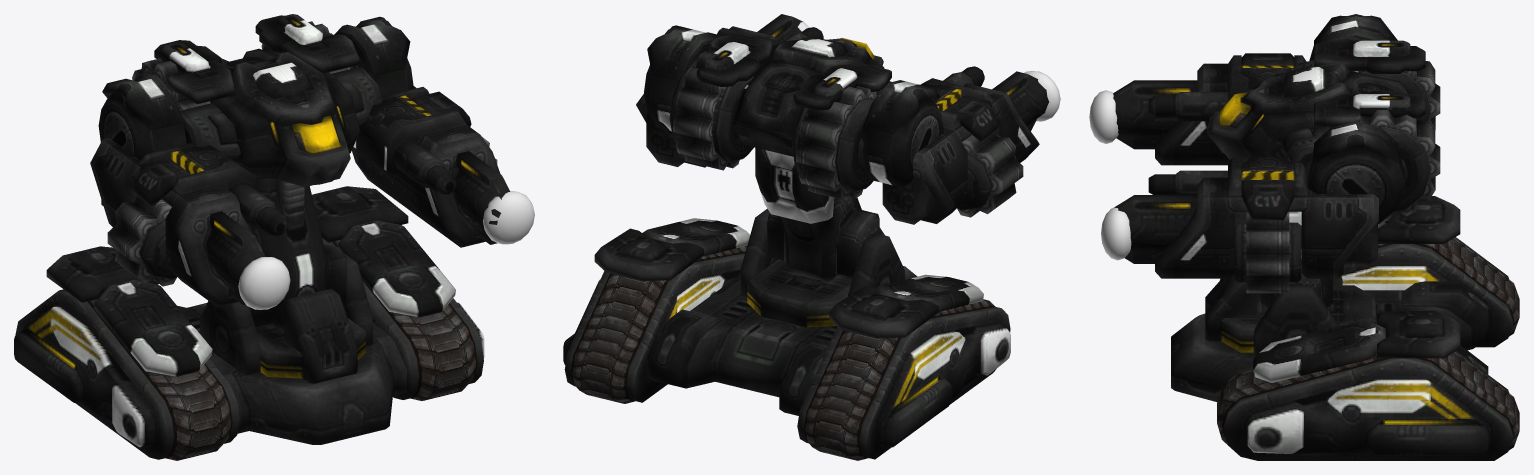
Rendered from UED_A.R.E.S_V1.glb.
The picture shows the model from 3 angles, left to right: view 1: azimuth 30°, elevation 25°; view 2: azimuth 150°, elevation 25°; view 3: azimuth 270°, elevation 25°; orthographic projection. The views are drawn at different scales.
Visible parts, largest first — view 1: Mesh.001, Cylinder09, Sphere03, Sphere08, Box01; view 2: Mesh.001, Cylinder09, Sphere03; view 3: Mesh.001, Cylinder09, Sphere08, Sphere03, Box01.
Part boxes in pixels (bbox=[...]): Mesh.001: bbox=[14, 14, 510, 459]; Cylinder09: bbox=[87, 240, 477, 460]; Sphere03: bbox=[238, 257, 290, 309]; Sphere08: bbox=[483, 191, 534, 244]; Box01: bbox=[292, 115, 340, 153]; Mesh.001: bbox=[563, 14, 1048, 459]; Cylinder09: bbox=[571, 245, 995, 460]; Sphere03: bbox=[1024, 71, 1060, 121]; Mesh.001: bbox=[1113, 14, 1513, 460]; Cylinder09: bbox=[1217, 238, 1519, 452]; Sphere08: bbox=[1101, 207, 1131, 260]; Sphere03: bbox=[1089, 90, 1118, 143]; Box01: bbox=[1219, 91, 1251, 126].
Bounding box in the file's own units: 3.14 × 2.74 × 3.35.
5 materials, 5 textured.
